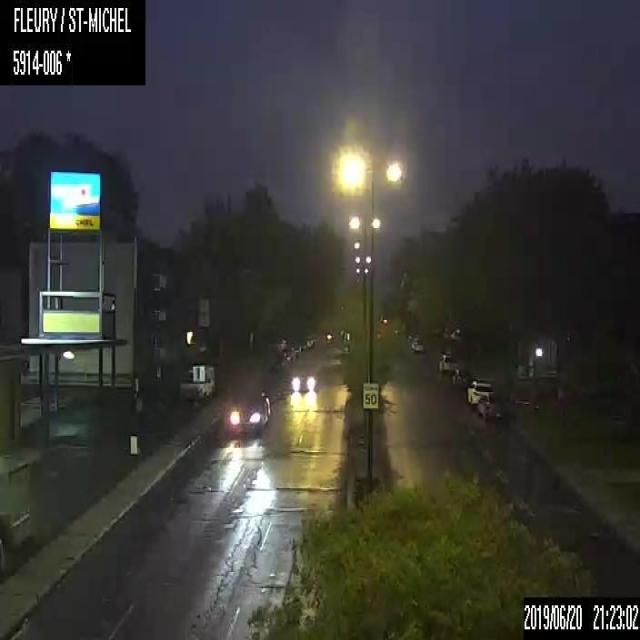vehicle: (228, 387, 269, 432), (178, 366, 215, 402), (466, 376, 493, 409), (292, 367, 320, 393), (476, 394, 501, 420), (437, 352, 461, 374), (450, 363, 471, 387), (410, 335, 426, 353)
